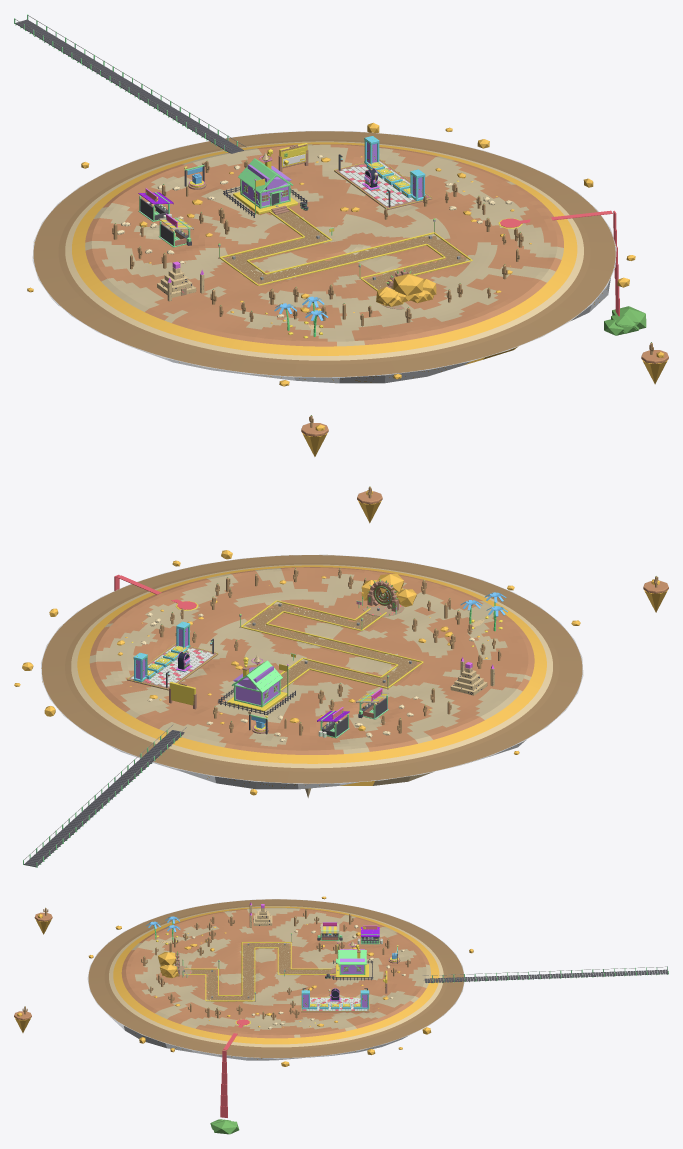
Rendered from Isla4_Desierto.obj.
The picture shows the model from 3 angles, top to bottom: view 1: azimuth 30°, elevation 25°; view 2: azimuth 150°, elevation 25°; view 3: azimuth 270°, elevation 25°; orthographic projection. The views are drawn at different scales.
Visible parts, largest first — view 1: Isla4_Desierto_Terreno, Isla4_Desierto_Base_Flotante, Isla4_Desierto_Casa, Isla4_Desierto_Palanca_Zona, Isla4_Desierto_Portal, Isla4_Desierto_Monumento, Isla4_Desierto_Detalles_8, Puente_4_8, Isla4_Desierto_Tienda_Puesto, Isla4_Desierto_Detalles_7, Isla4_Desierto_Equipamientos_Puesto; view 2: Isla4_Desierto_Terreno, Isla4_Desierto_Base_Flotante, Isla4_Desierto_Casa, Isla4_Desierto_Palanca_Zona, Isla4_Desierto_Portal, Isla4_Desierto_Monumento, Isla4_Desierto_Equipamientos_Puesto, Isla4_Desierto_Tienda_Puesto, Puente_4_8; view 3: Isla4_Desierto_Terreno, Isla4_Desierto_Base_Flotante, Isla4_Desierto_Casa, Isla4_Desierto_Palanca_Zona, Isla4_Desierto_Portal, Isla4_Desierto_Detalles_8, Puente_4_8, Isla4_Desierto_Equipamientos_Puesto, Isla4_Desierto_Detalles_7, Isla4_Desierto_Monumento, Isla4_Desierto_Tienda_Puesto.
Part boxes in pixels (box(x1,y1,x2,y2)): Isla4_Desierto_Terreno: box(33, 131, 615, 377); Isla4_Desierto_Base_Flotante: box(32, 131, 616, 383); Isla4_Desierto_Casa: box(223, 149, 307, 217); Isla4_Desierto_Palanca_Zona: box(334, 136, 432, 209); Isla4_Desierto_Portal: box(376, 268, 436, 309); Isla4_Desierto_Monumento: box(157, 261, 204, 301); Isla4_Desierto_Detalles_8: box(611, 279, 646, 333); Puente_4_8: box(15, 15, 246, 150); Isla4_Desierto_Tienda_Puesto: box(158, 213, 193, 247); Isla4_Desierto_Detalles_7: box(520, 210, 624, 335); Isla4_Desierto_Equipamientos_Puesto: box(138, 188, 173, 221); Isla4_Desierto_Terreno: box(41, 555, 582, 783); Isla4_Desierto_Base_Flotante: box(41, 554, 583, 789); Isla4_Desierto_Casa: box(218, 655, 295, 714); Isla4_Desierto_Palanca_Zona: box(127, 621, 218, 690); Isla4_Desierto_Portal: box(361, 574, 416, 616); Isla4_Desierto_Monumento: box(450, 657, 494, 695); Isla4_Desierto_Equipamientos_Puesto: box(317, 707, 349, 738); Isla4_Desierto_Tienda_Puesto: box(356, 688, 388, 719); Puente_4_8: box(24, 724, 186, 862); Isla4_Desierto_Terreno: box(88, 899, 463, 1057); Isla4_Desierto_Base_Flotante: box(87, 899, 464, 1060); Isla4_Desierto_Casa: box(330, 941, 373, 980); Isla4_Desierto_Palanca_Zona: box(301, 988, 369, 1012); Isla4_Desierto_Portal: box(158, 951, 191, 978); Isla4_Desierto_Detalles_8: box(210, 1095, 239, 1134); Puente_4_8: box(422, 966, 667, 980); Isla4_Desierto_Equipamientos_Puesto: box(357, 925, 382, 944); Isla4_Desierto_Detalles_7: box(219, 1024, 243, 1120); Isla4_Desierto_Monumento: box(249, 902, 272, 927); Isla4_Desierto_Tienda_Puesto: box(317, 922, 342, 940).
Size of the model in its own units: 150 by 44.97 by 244.
1 material, 1 textured.
